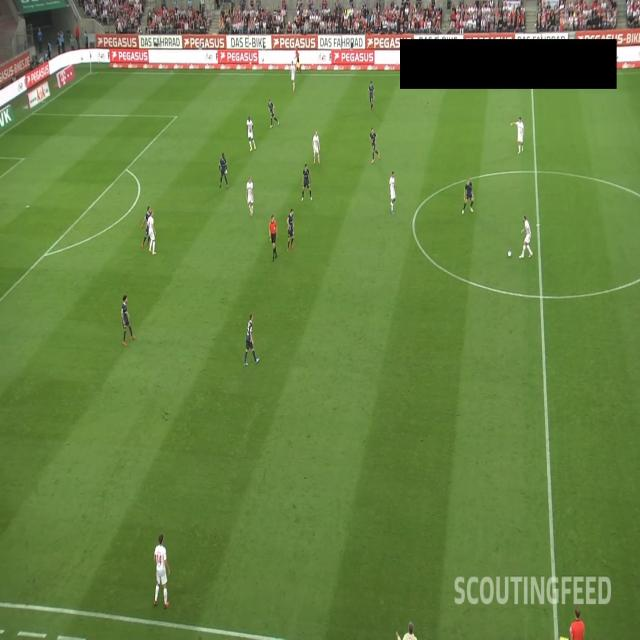ball: (507, 250, 512, 258)
